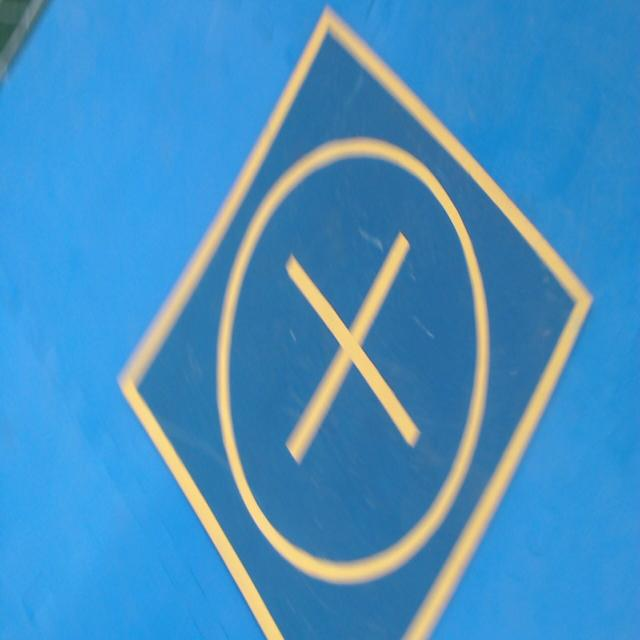base_pouso: (117, 4, 595, 639)
